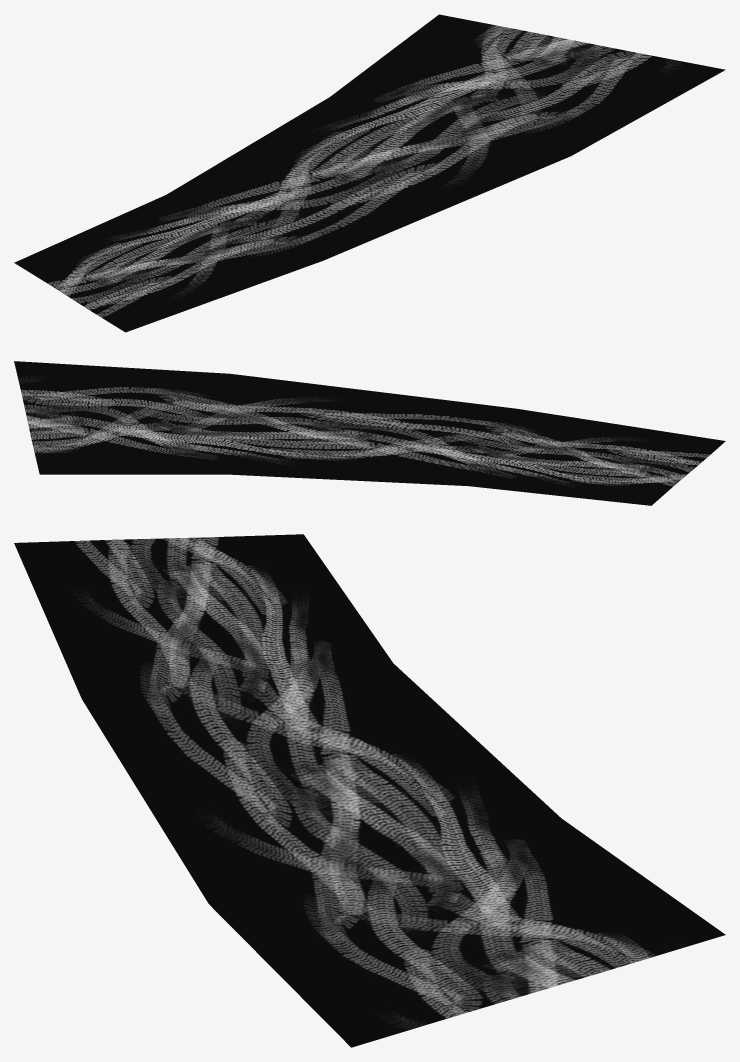
File: BnL_Tune_Up_ThreadsMarkings.fbx
3 renders of one model, top to bottom at view 1: azimuth 30°, elevation 25°; view 2: azimuth 150°, elevation 25°; view 3: azimuth 270°, elevation 25°, orthographic. The views are drawn at different scales.
Visible parts, largest first — view 1: BnL_Tune_Up_ThreadsMarkings; view 2: BnL_Tune_Up_ThreadsMarkings; view 3: BnL_Tune_Up_ThreadsMarkings.
Part boxes in pixels (x1,y1,x2,y2): BnL_Tune_Up_ThreadsMarkings: (14, 14, 725, 332); BnL_Tune_Up_ThreadsMarkings: (14, 361, 725, 505); BnL_Tune_Up_ThreadsMarkings: (14, 534, 725, 1047).
Bounding box in the file's own units: 20.01 × 0.0881 × 11.62.
Materials: 1 (1 with a texture image).
